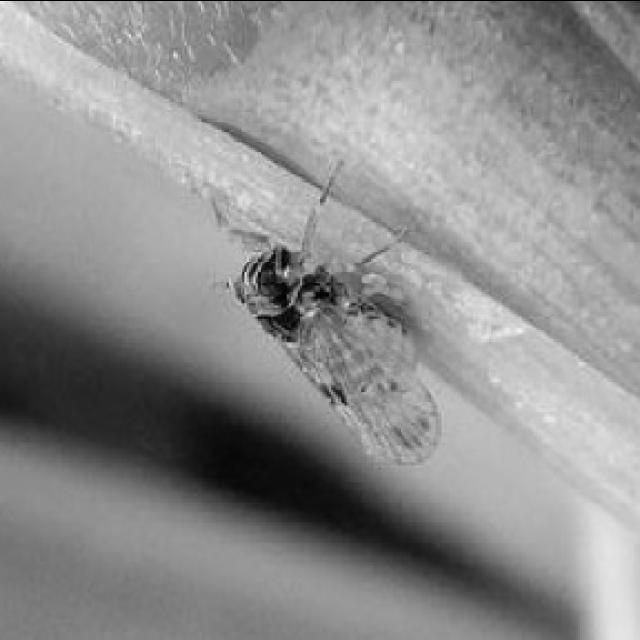brown plant hopper: (231, 209, 436, 462)
